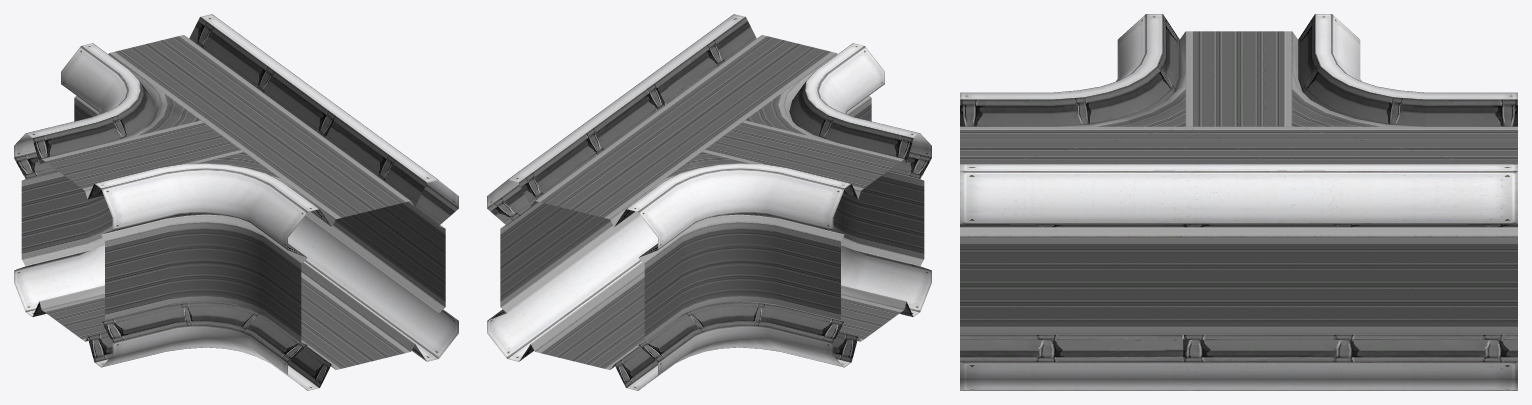
The model's file is CeilingBrace_CornerJunction.FBX.
The picture shows the model from 3 angles, left to right: view 1: azimuth 30°, elevation 25°; view 2: azimuth 150°, elevation 25°; view 3: azimuth 270°, elevation 25°; orthographic projection. The views are drawn at different scales.
Parts seen in each view (by area): view 1: CeilingBrace_CornerJunction; view 2: CeilingBrace_CornerJunction; view 3: CeilingBrace_CornerJunction.
Boxes of the visible parts, box(x1,y1,x2,y2) form: CeilingBrace_CornerJunction: box(14, 14, 458, 390); CeilingBrace_CornerJunction: box(487, 14, 931, 390); CeilingBrace_CornerJunction: box(960, 14, 1517, 390).
Size of the model in its own units: 2.15 by 1.3 by 3.
